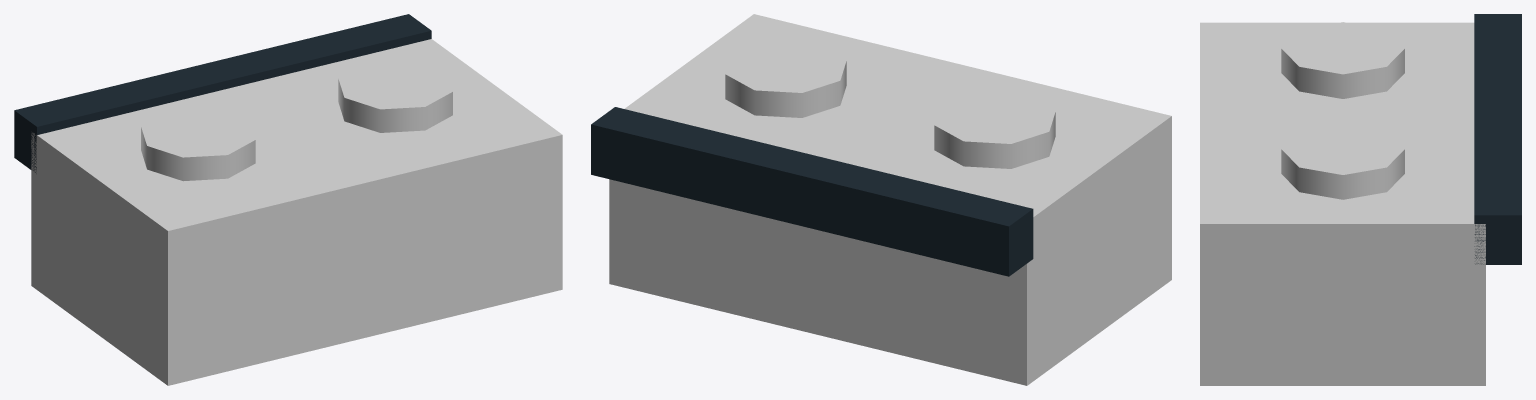
File: LegoPelvis.glb
The picture shows the model from 3 angles, left to right: view 1: azimuth 30°, elevation 25°; view 2: azimuth 150°, elevation 25°; view 3: azimuth 270°, elevation 25°; orthographic projection. The views are drawn at different scales.
Visible parts, largest first — view 1: LegoPelvis; view 2: LegoPelvis; view 3: LegoPelvis.
Part boxes in pixels (x1,y1,x2,y2): LegoPelvis: (14,14,562,385); LegoPelvis: (591,14,1171,385); LegoPelvis: (1200,14,1521,385).
Size of the model in its own units: 0.4 by 0.1729 by 0.27.
